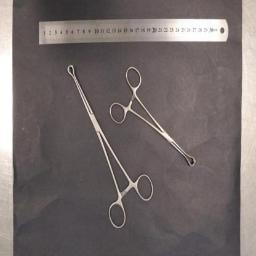Babcock Tissue Forceps: (109, 66, 195, 168)
